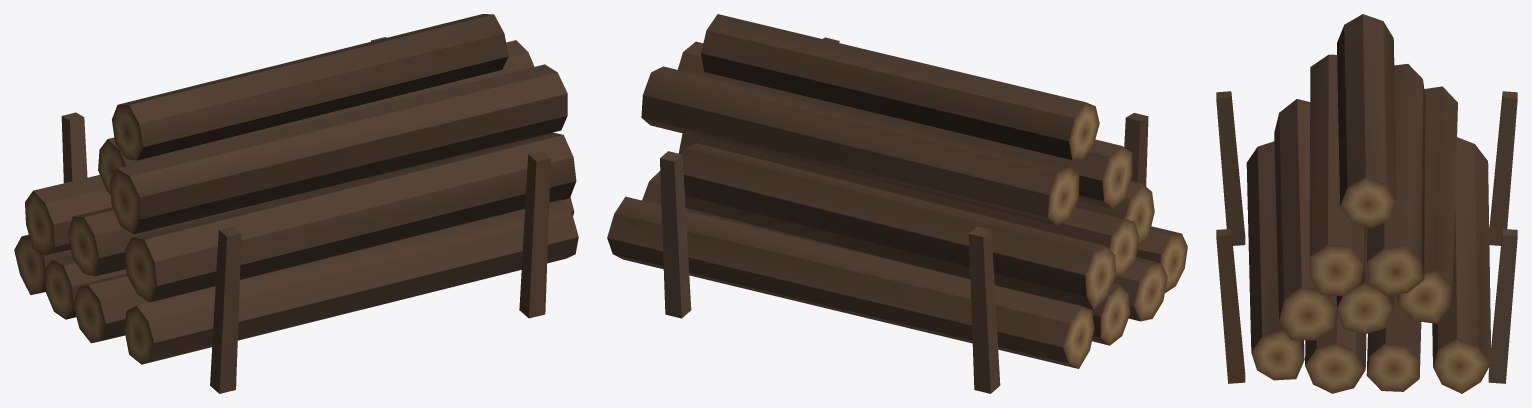
Rendered from lumber_stack_01.glb.
3 renders of one model, left to right at view 1: azimuth 30°, elevation 25°; view 2: azimuth 150°, elevation 25°; view 3: azimuth 270°, elevation 25°, orthographic. The views are drawn at different scales.
Visible parts, largest first — view 1: lumber_stack_01_wood; view 2: lumber_stack_01_wood; view 3: lumber_stack_01_wood.
Boxes of the visible parts, box(x1,y1,x2,y2) form: lumber_stack_01_wood: box(14, 14, 578, 393); lumber_stack_01_wood: box(607, 14, 1187, 393); lumber_stack_01_wood: box(1216, 14, 1517, 393).
Bounding box in the file's own units: 2.27 × 1.11 × 1.39.
